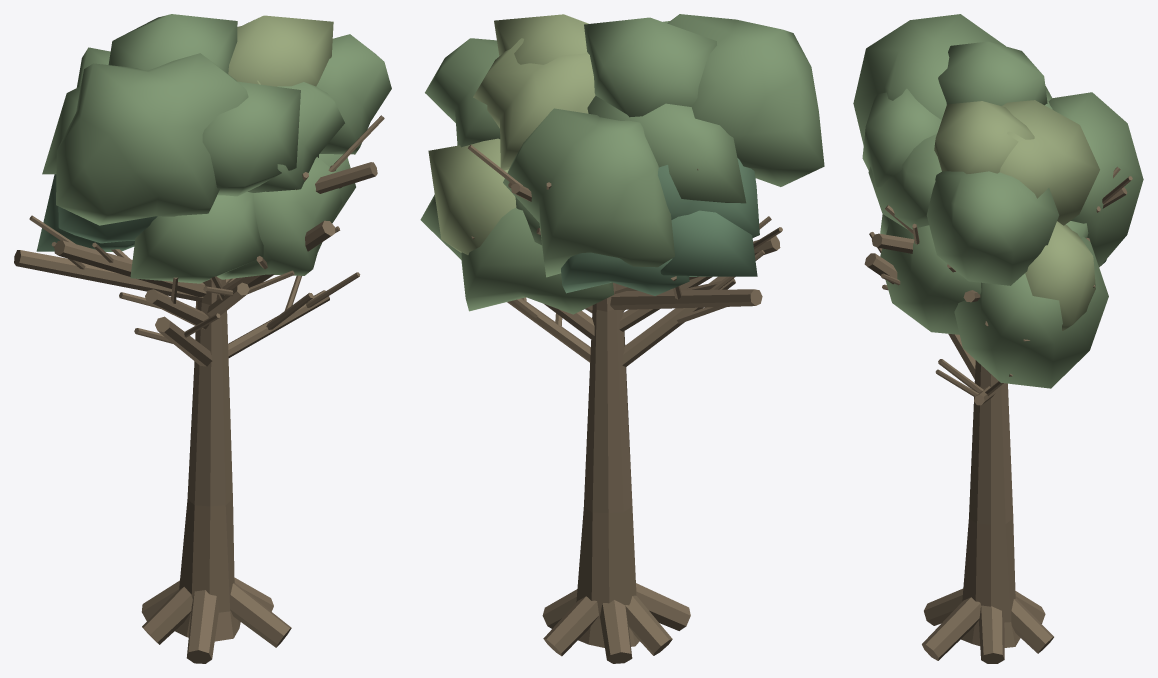
File: broadleaf_c.glb
3 renders of one model, left to right at view 1: azimuth 30°, elevation 25°; view 2: azimuth 150°, elevation 25°; view 3: azimuth 270°, elevation 25°, orthographic. The views are drawn at different scales.
Parts seen in each view (by area): view 1: broadleaf_c LOD0; view 2: broadleaf_c LOD0; view 3: broadleaf_c LOD0.
Part boxes in pixels (bbox=[...]): broadleaf_c LOD0: bbox=[14, 14, 391, 663]; broadleaf_c LOD0: bbox=[420, 14, 824, 663]; broadleaf_c LOD0: bbox=[853, 14, 1143, 663].
Size of what is drawn, in the model's own units: 5.25 by 8.84 by 3.99.
